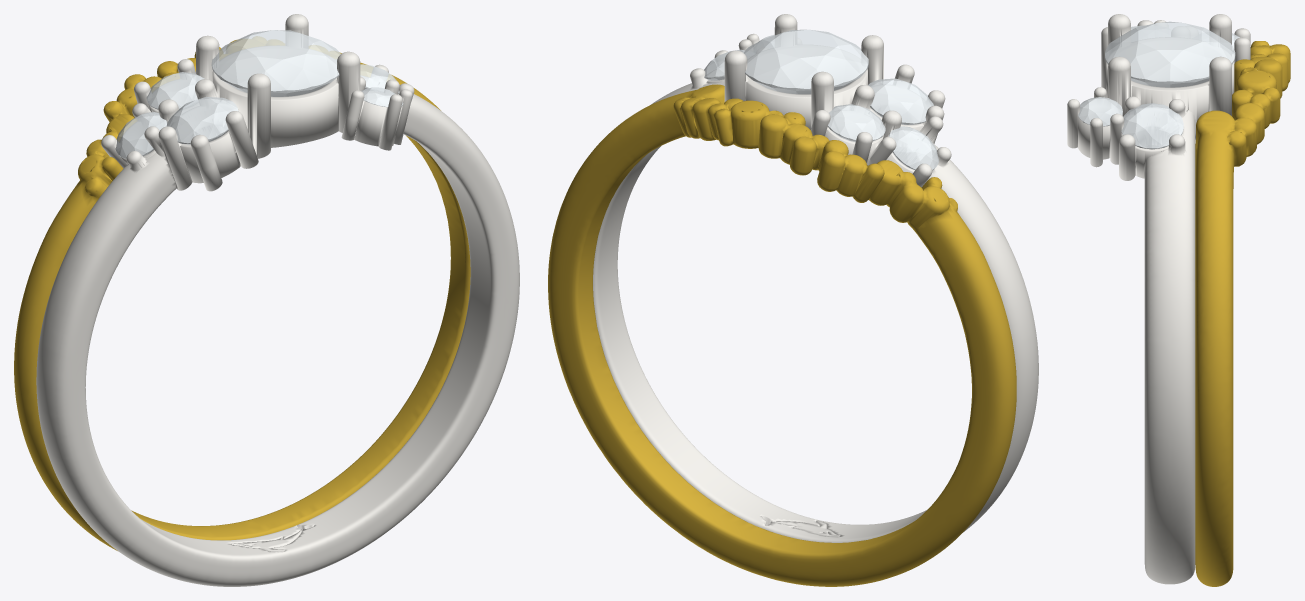
File: ring-yellow-gold.glb
3 views of the same model, side by side, from view 1: azimuth 30°, elevation 25°; view 2: azimuth 150°, elevation 25°; view 3: azimuth 270°, elevation 25° (orthographic). The views are drawn at different scales.
Visible parts, largest first — view 1: silver, gold, diamonds004, diamonds003, diamonds001, diamonds002; view 2: gold, silver, diamonds004, diamonds003, diamonds001, diamonds002; view 3: silver, gold, diamonds004, diamonds, diamonds005.
Part boxes in pixels (box(x1,y1,x2,y2)): silver: box(36, 14, 519, 586); gold: box(14, 37, 470, 550); diamonds004: box(211, 30, 340, 96); diamonds003: box(166, 96, 238, 144); diamonds001: box(146, 72, 204, 109); diamonds002: box(115, 112, 167, 158); gold: box(548, 84, 1016, 586); silver: box(593, 14, 1038, 542); diamonds004: box(743, 29, 868, 94); diamonds003: box(868, 78, 933, 124); diamonds001: box(827, 104, 885, 141); diamonds002: box(888, 126, 938, 170); silver: box(1067, 14, 1250, 584); gold: box(1195, 41, 1290, 586); diamonds004: box(1105, 21, 1235, 87); diamonds: box(1121, 103, 1183, 149); diamonds005: box(1078, 97, 1122, 126).
Bounding box in the file's own units: 0.022 × 0.0236 × 0.00908.
